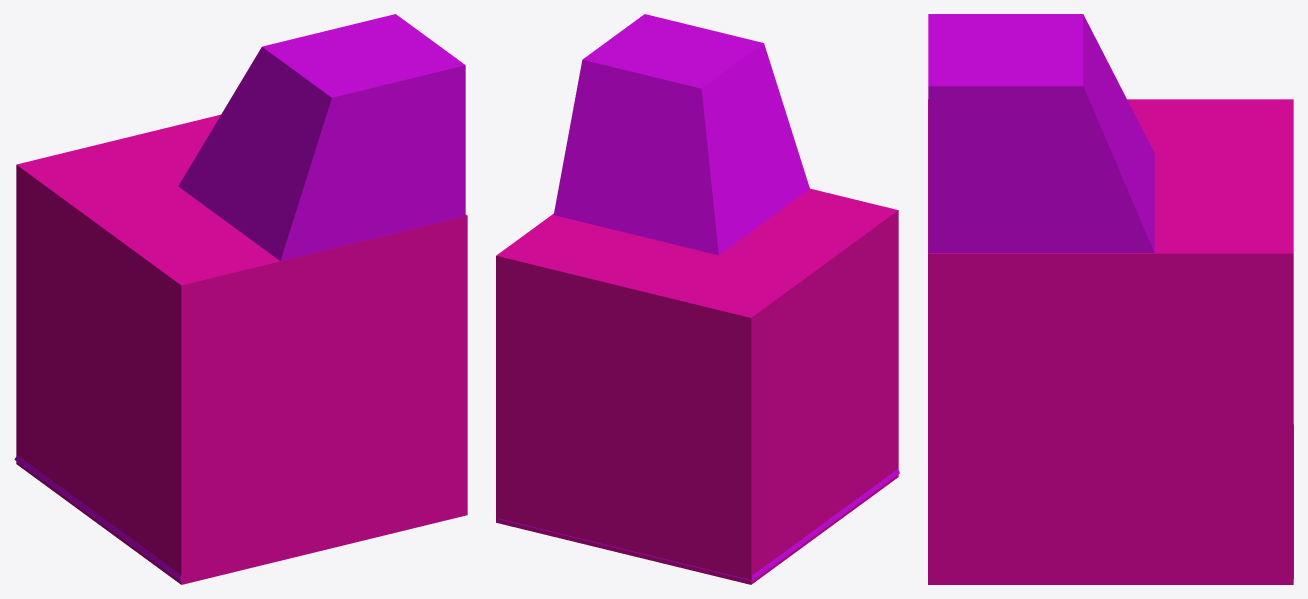
Rendered from CITY.glb.
3 renders of one model, left to right at view 1: azimuth 30°, elevation 25°; view 2: azimuth 150°, elevation 25°; view 3: azimuth 270°, elevation 25°, orthographic. The views are drawn at different scales.
Visible parts, largest first — view 1: CityBlock, CityCaptial; view 2: CityBlock, CityCaptial; view 3: CityBlock, CityCaptial.
Boxes of the visible parts, left/top/right/bottom form: CityBlock: left=16, top=114, right=467, bottom=584; CityCaptial: left=14, top=14, right=465, bottom=580; CityBlock: left=496, top=188, right=898, bottom=584; CityCaptial: left=497, top=14, right=899, bottom=581; CityBlock: left=928, top=99, right=1293, bottom=584; CityCaptial: left=928, top=14, right=1293, bottom=578.
Bounding box in the file's own units: 0.6463 × 0.9658 × 0.6431.
